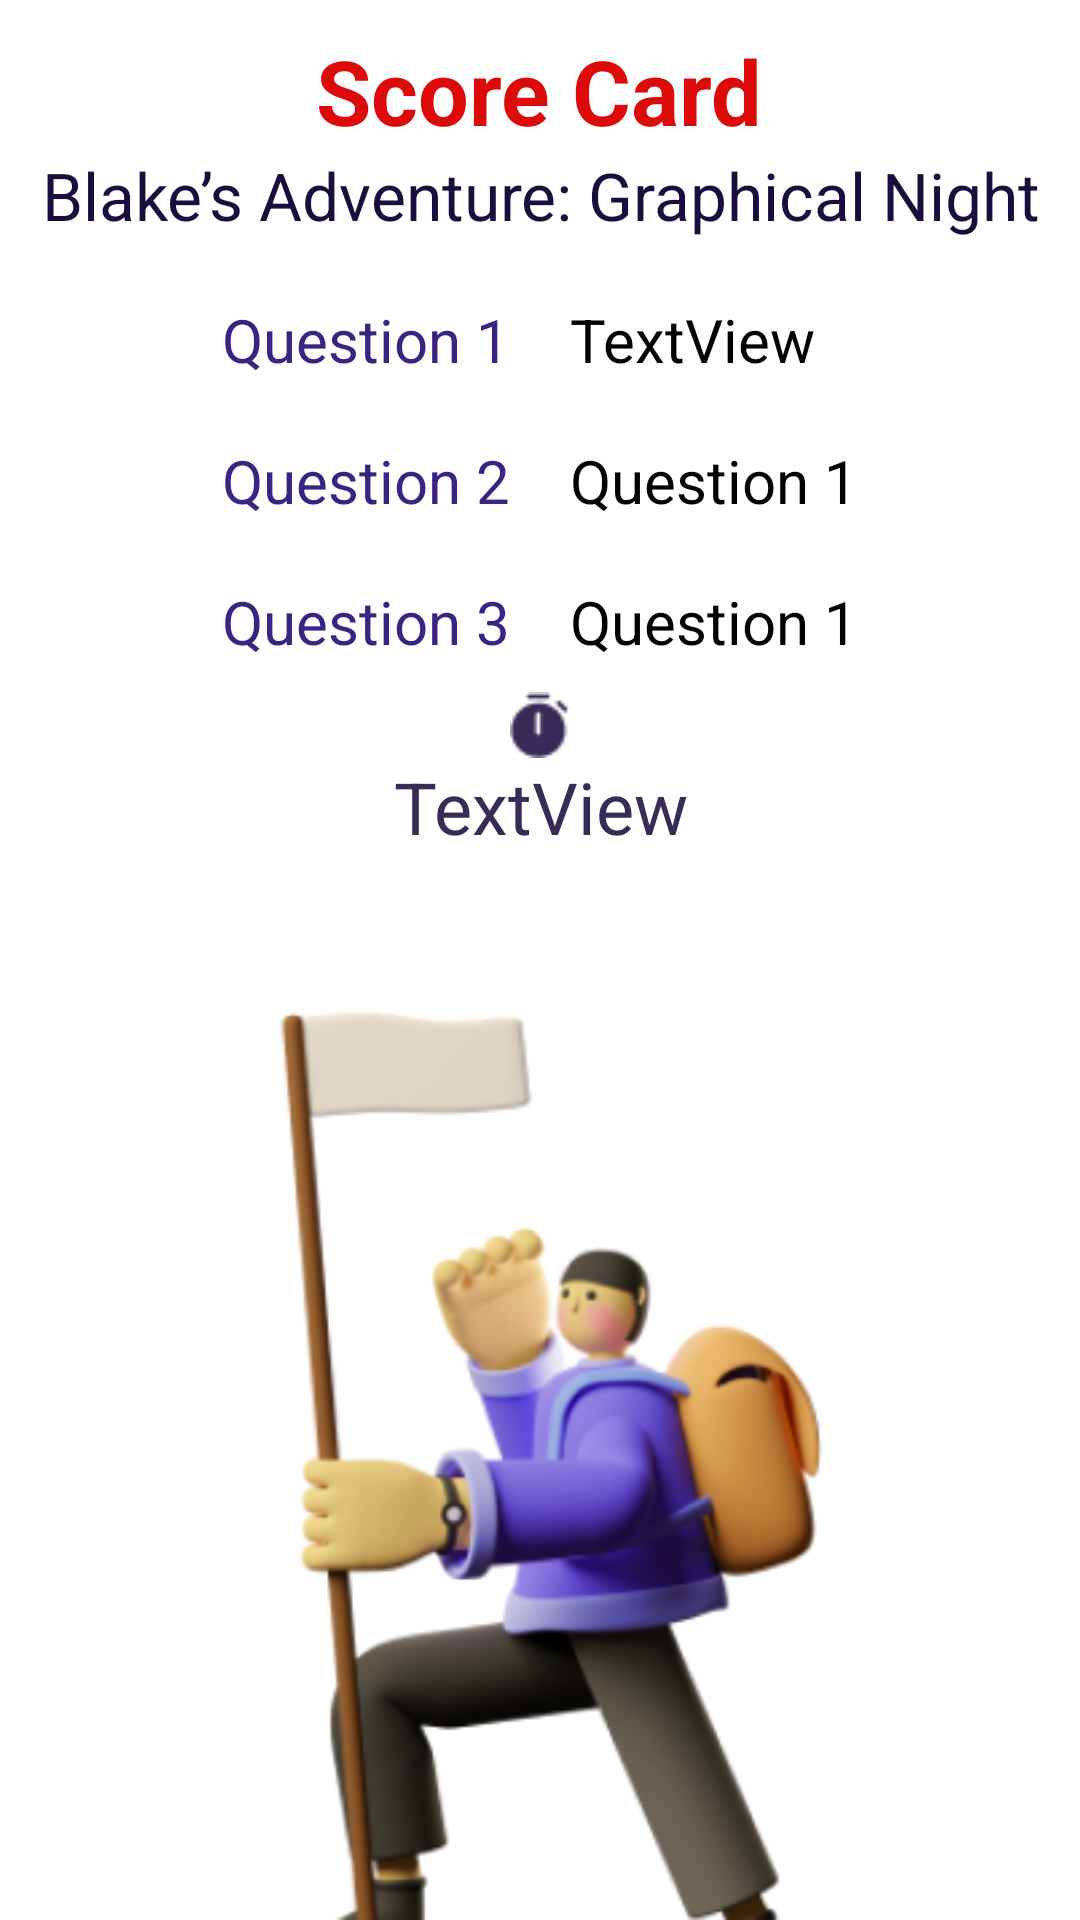

Icon click points for this 1080 × 1920 phone screenshot, format (x=x, y=y):
time: (x=539, y=725)
